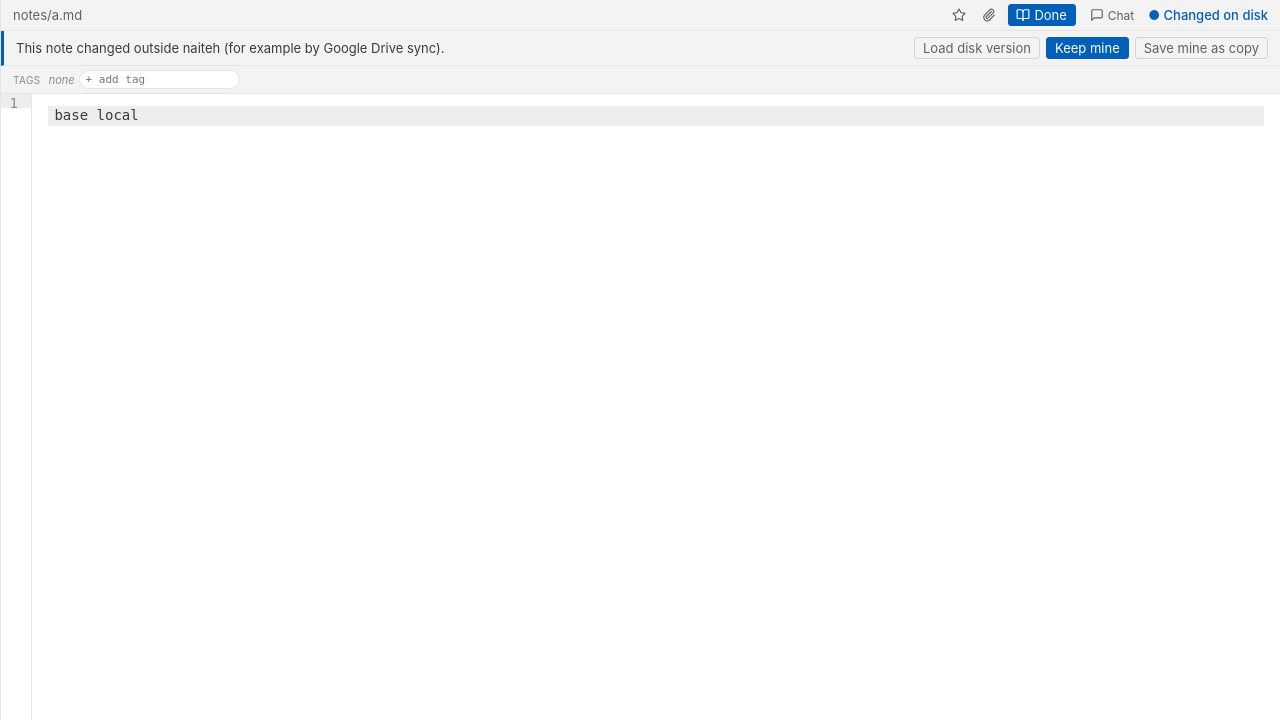
Test: EditorPanel changed-on-disk conflict › Keep mine overwrites the disk version conditionally and clears the conflict
Click the button with test id "external-change-keep".
click(1087, 48)  # box top-left (1046, 37), bottom-right (1129, 59)
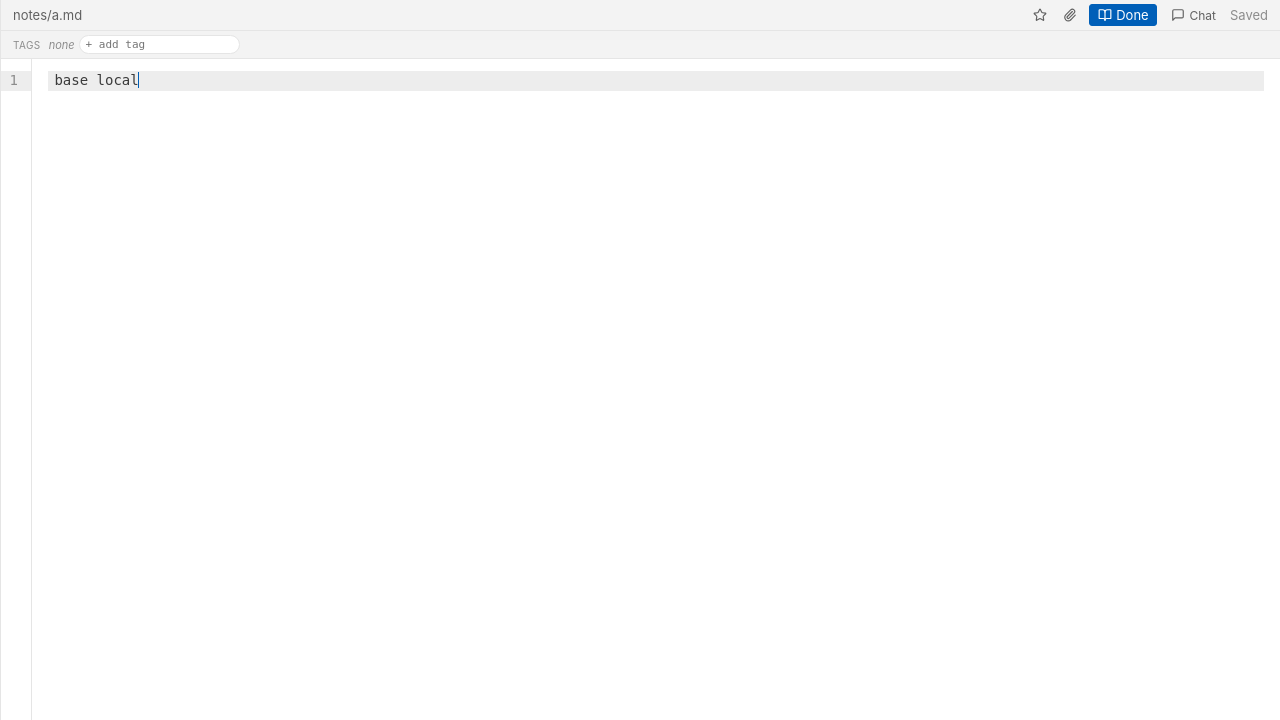
Expected: the text box labelled "base local" is shown, top-left (48, 71), bottom-right (1264, 91)
Now the message with test id "editor-external-change" is gone
Now the text with test id "editor-status" reads "Saved", box top-left (1230, 7), bottom-right (1268, 23)
